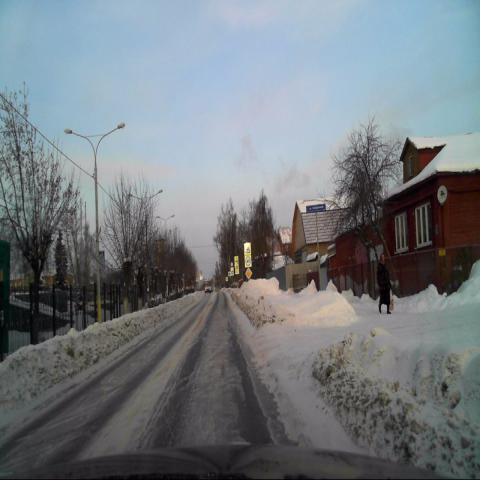1_23: (244, 242, 251, 255)
2_1: (245, 267, 252, 279)
3_24: (244, 255, 252, 266)
